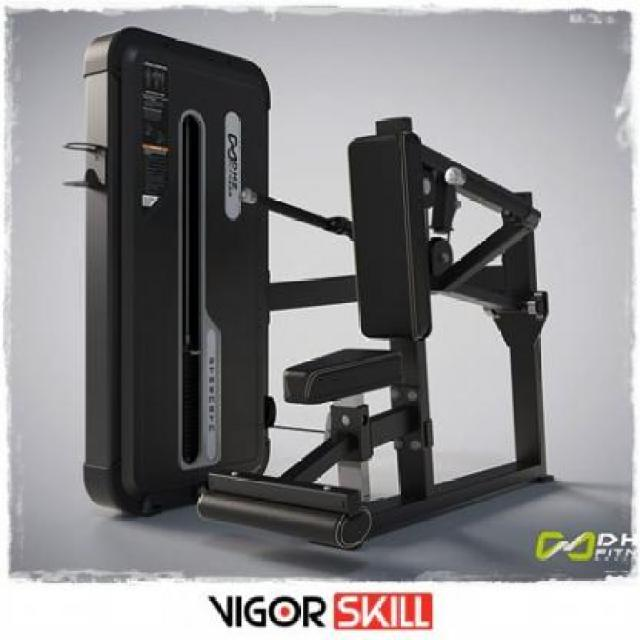seated dip machine: (64, 28, 558, 549)
